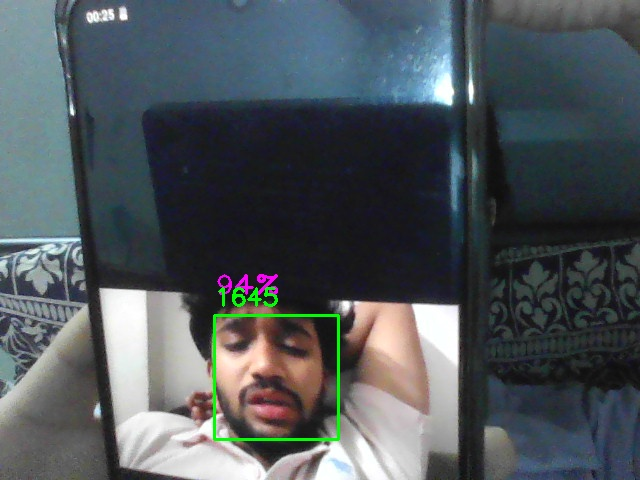fake: (214, 315, 339, 440)
